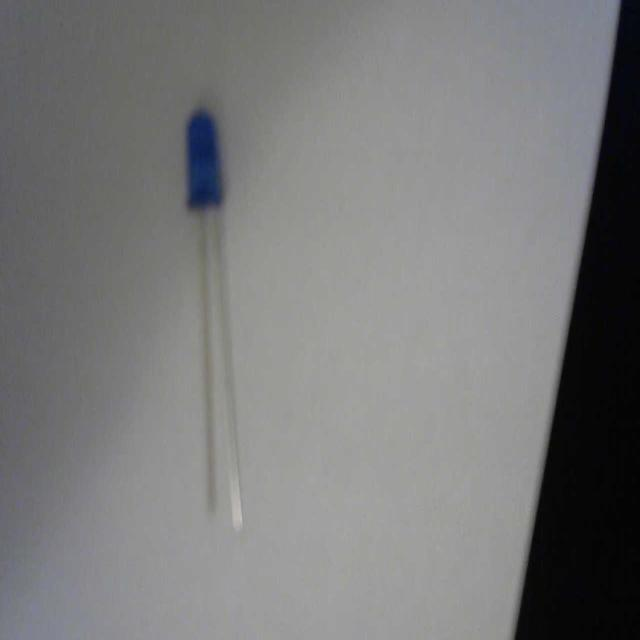blue_led: (185, 107, 223, 209)
